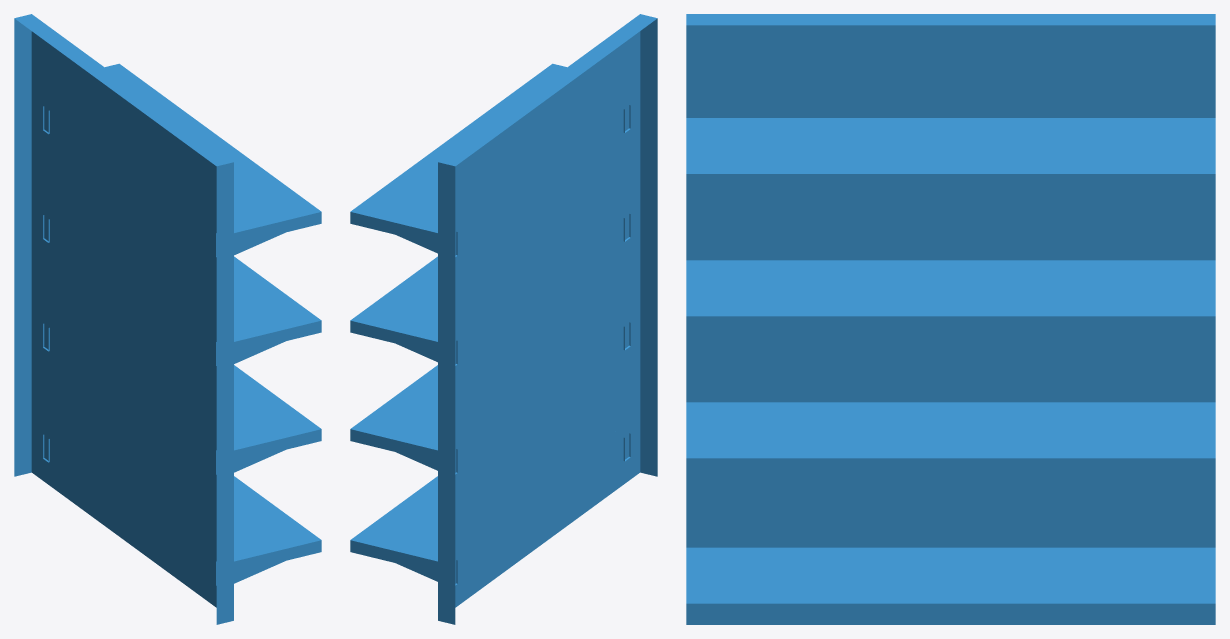
The model's file is SM_Shelf01.fbx.
3 renders of one model, left to right at view 1: azimuth 30°, elevation 25°; view 2: azimuth 150°, elevation 25°; view 3: azimuth 270°, elevation 25°, orthographic. The views are drawn at different scales.
Parts seen in each view (by area): view 1: SM_Shelf_01; view 2: SM_Shelf_01; view 3: SM_Shelf_01.
Part boxes in pixels (x1,y1,x2,y2): SM_Shelf_01: [14, 14, 321, 624]; SM_Shelf_01: [350, 14, 657, 624]; SM_Shelf_01: [686, 14, 1215, 624].
Bounding box in the file's own units: 48 × 200 × 160.
